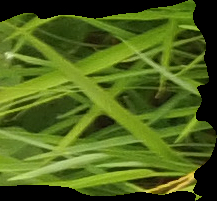grass: (1, 1, 216, 199)
